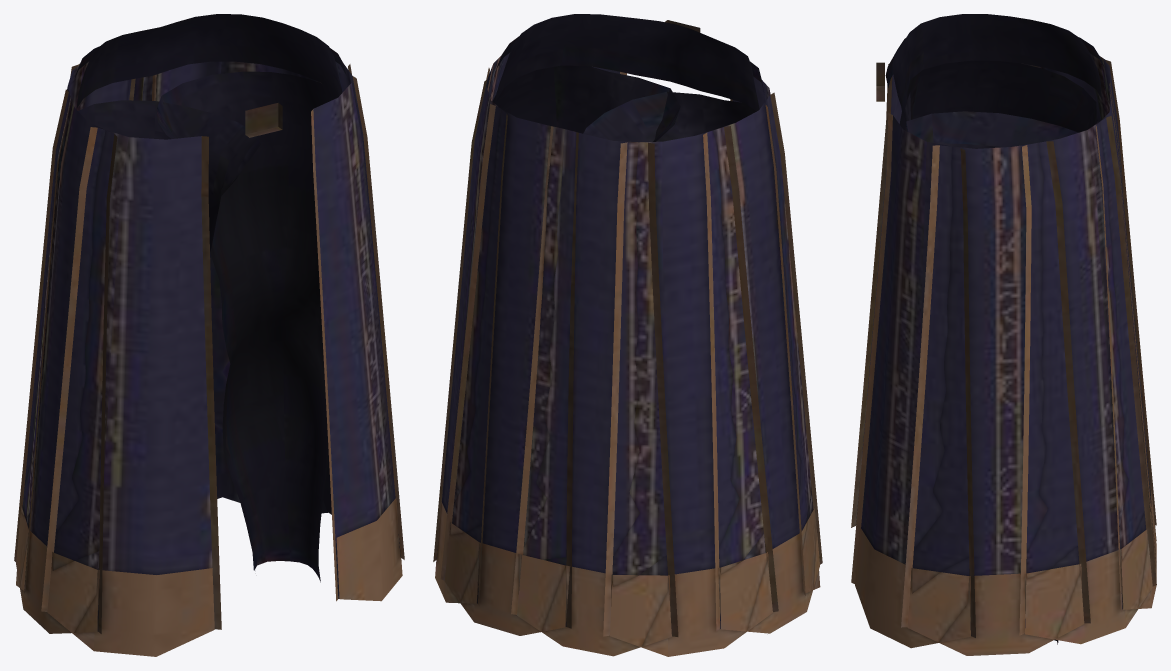
File: Calça_do_Mago_nivel50.glb
3 views of the same model, side by side, from view 1: azimuth 30°, elevation 25°; view 2: azimuth 150°, elevation 25°; view 3: azimuth 270°, elevation 25° (orthographic). The views are drawn at different scales.
Visible parts, largest first — view 1: calca_do_mago_nivel50; view 2: calca_do_mago_nivel50; view 3: calca_do_mago_nivel50.
Boxes of the visible parts, <box> form: calca_do_mago_nivel50: <box>14,14,404,656</box>; calca_do_mago_nivel50: <box>433,14,822,656</box>; calca_do_mago_nivel50: <box>851,14,1156,655</box>.
Bounding box in the file's own units: 0.5487 × 0.8351 × 0.4277.
Materials: 1 (1 with a texture image).
